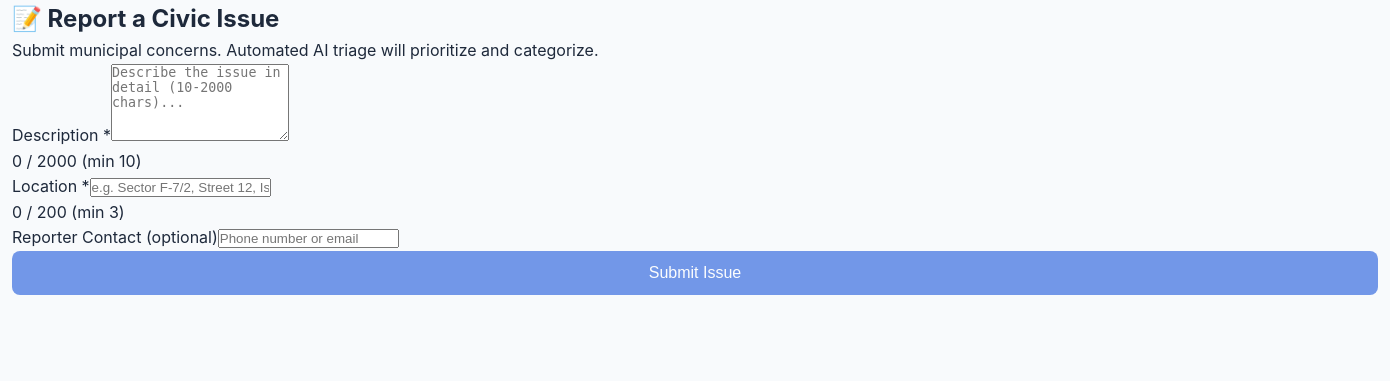
Scenario: SubmitPage › surfaces server validation and network errors when submission fails
This screenshot has width=1390, height=381.
In the text box labelled "Description *": (200, 102) [111, 64, 289, 141], type "Water contamination in sector pipeline"
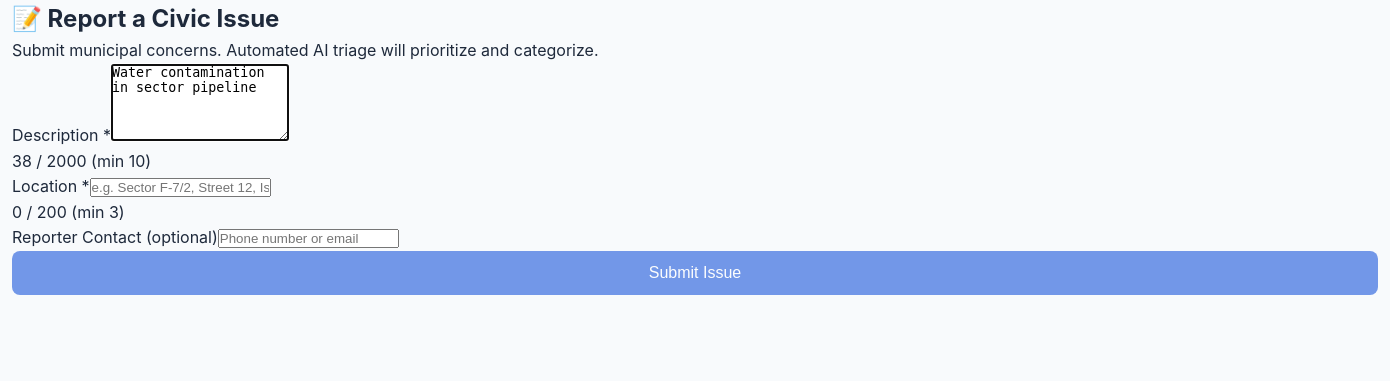
In the field labelled "Location *": (180, 188) [90, 178, 271, 197], type "Street 4, Sector F-6"
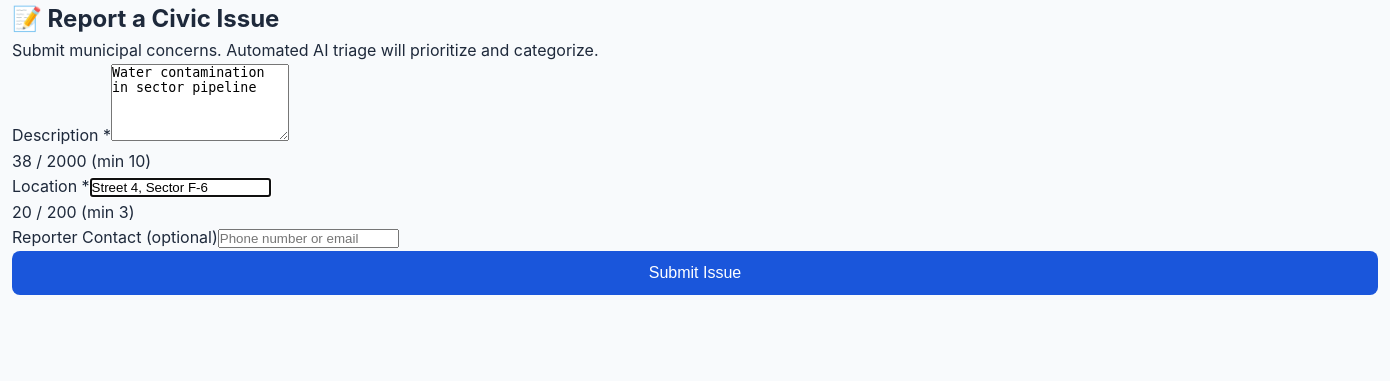
Click the button "Submit Issue": (695, 273) [12, 251, 1378, 295]
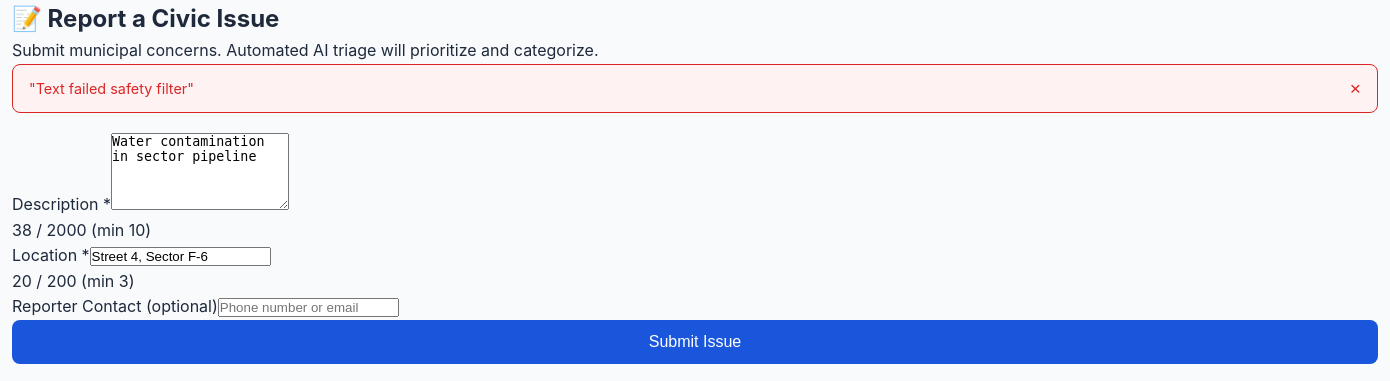
Expected: the text "\"Text failed safety filter\"" is shown, [29, 77, 194, 100]
